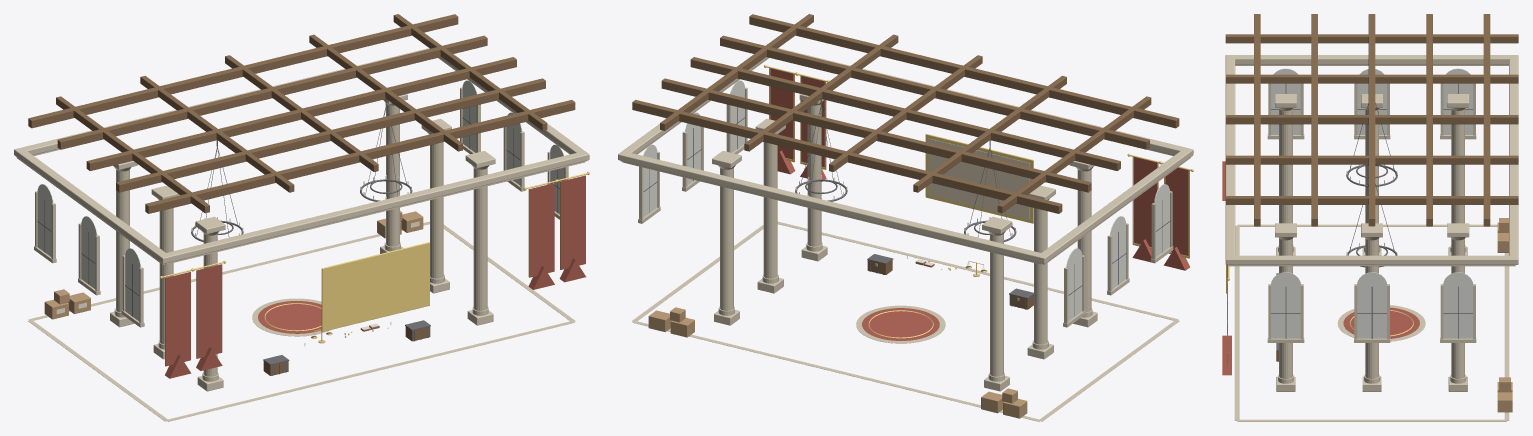
Rendered from guild_merchants.glb.
The picture shows the model from 3 angles, left to right: view 1: azimuth 30°, elevation 25°; view 2: azimuth 150°, elevation 25°; view 3: azimuth 270°, elevation 25°; orthographic projection.
Parts seen in each view (by area): view 1: guild_merchants; view 2: guild_merchants; view 3: guild_merchants.
Boxes of the visible parts, box(x1,y1,x2,y2) form: guild_merchants: box(14, 14, 589, 421); guild_merchants: box(618, 14, 1193, 421); guild_merchants: box(1222, 14, 1518, 421).
Size of the model in its own units: 25.46 by 11.96 by 15.47.
